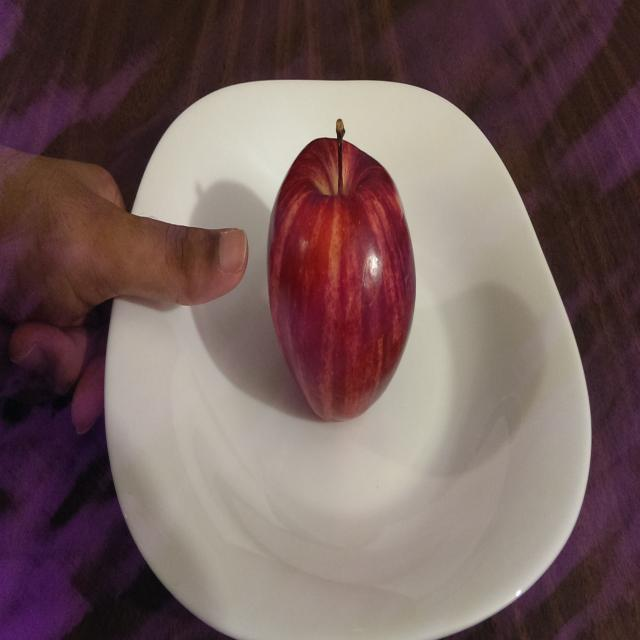apple: (266, 115, 418, 428)
